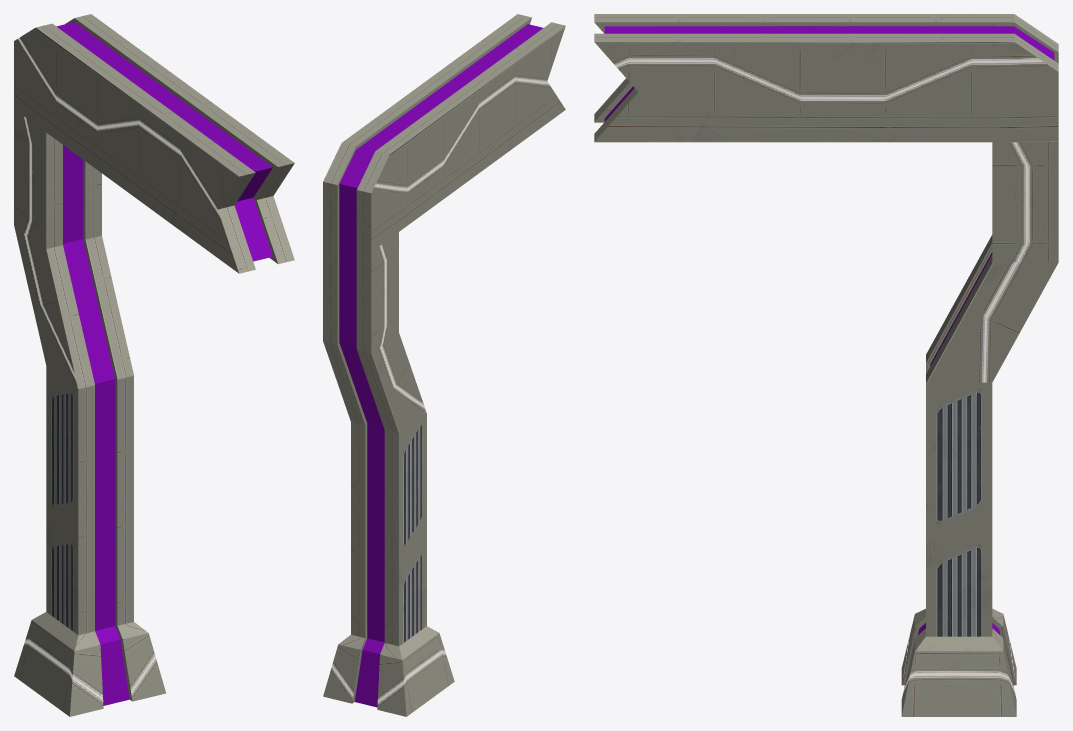
The model's file is KF_Rail_Support.fbx.
3 renders of one model, left to right at view 1: azimuth 30°, elevation 25°; view 2: azimuth 150°, elevation 25°; view 3: azimuth 270°, elevation 25°, orthographic. The views are drawn at different scales.
Parts seen in each view (by area): view 1: KF_Rail_Support; view 2: KF_Rail_Support; view 3: KF_Rail_Support.
Part boxes in pixels (box(x1,y1,x2,y2)): KF_Rail_Support: box(14, 14, 294, 716); KF_Rail_Support: box(323, 14, 565, 716); KF_Rail_Support: box(594, 14, 1058, 716).
Bounding box in the file's own units: 468 × 2985 × 1890.
Materials: 2 (1 with a texture image).
